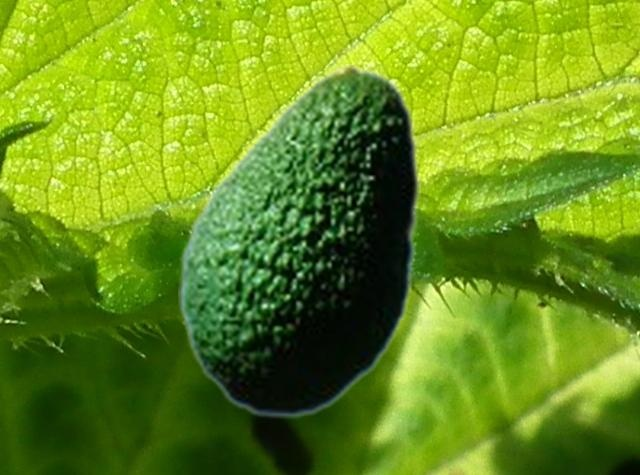avocado: (178, 64, 419, 418)
